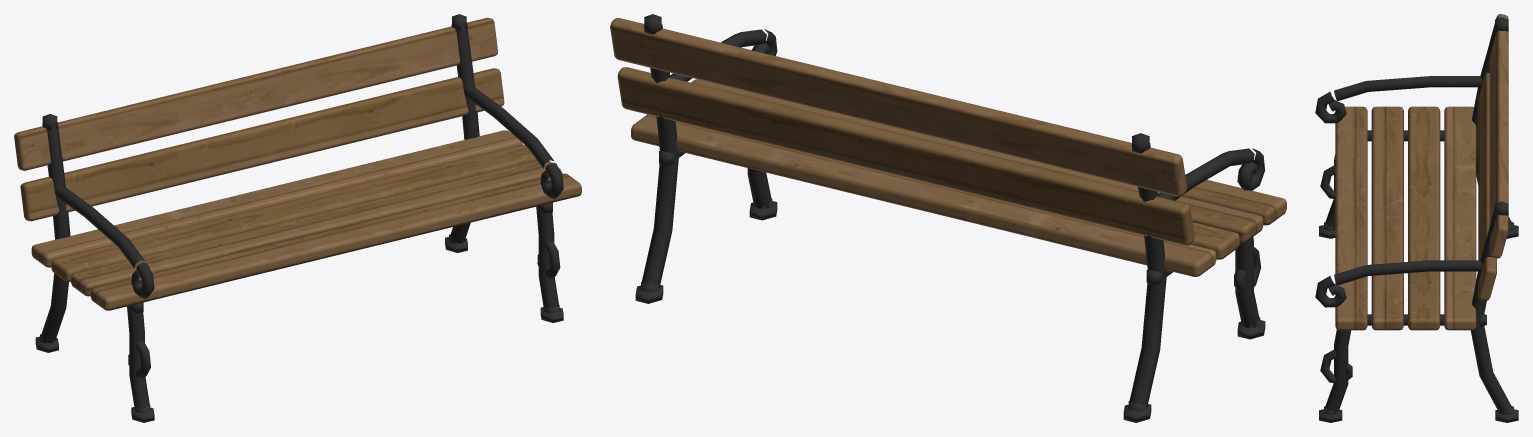
File: bench.glb
3 renders of one model, left to right at view 1: azimuth 30°, elevation 25°; view 2: azimuth 150°, elevation 25°; view 3: azimuth 270°, elevation 25°, orthographic. The views are drawn at different scales.
Parts seen in each view (by area): view 1: prop; view 2: prop; view 3: prop.
Part boxes in pixels (bbox=[...]): prop: bbox=[14, 14, 581, 422]; prop: bbox=[610, 14, 1286, 422]; prop: bbox=[1315, 14, 1518, 422].
Size of the model in its own units: 0.98 by 0.4675 by 0.3923.
Materials: 2 (2 with a texture image).
